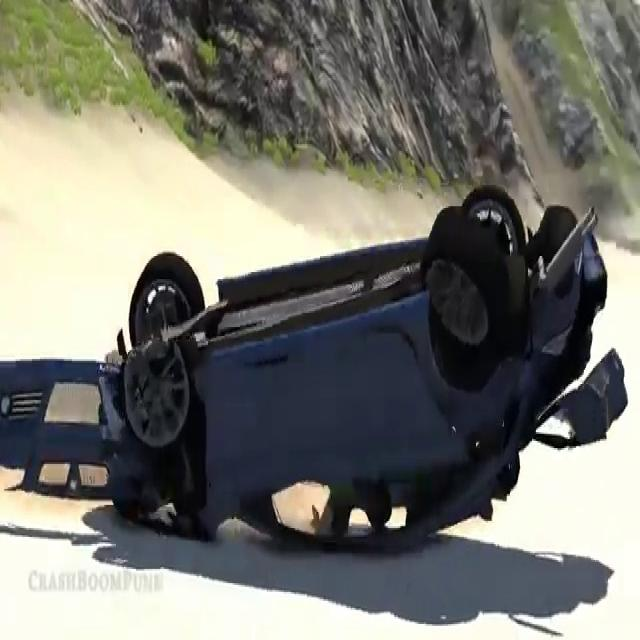severe: (88, 178, 630, 548)
